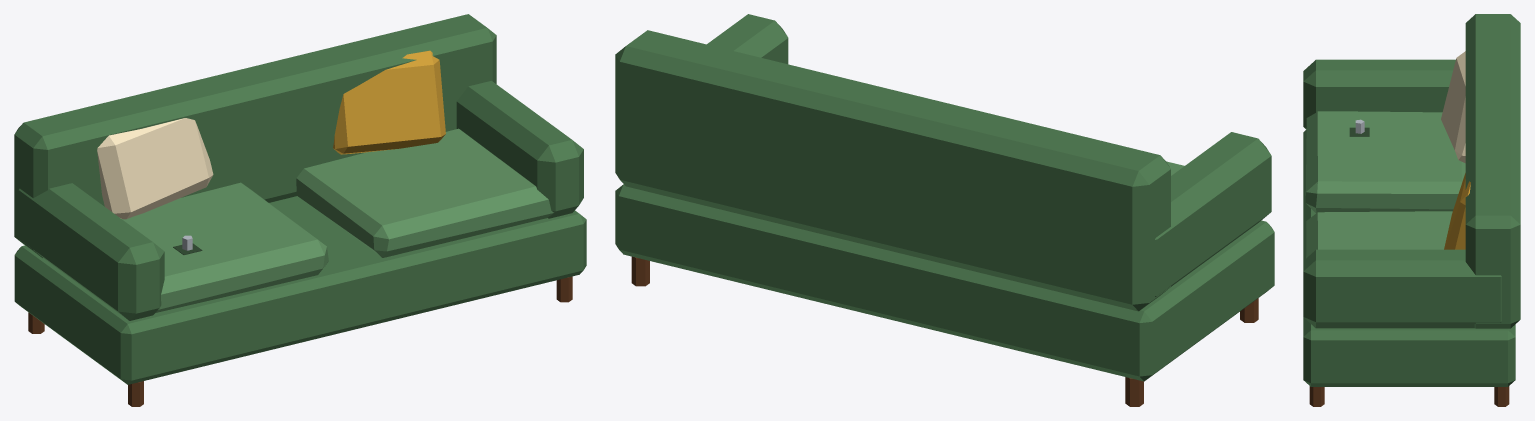
Rendered from sofa.fbx.
3 views of the same model, side by side, from view 1: azimuth 30°, elevation 25°; view 2: azimuth 150°, elevation 25°; view 3: azimuth 270°, elevation 25° (orthographic). The views are drawn at different scales.
Visible parts, largest first — view 1: sofa; view 2: sofa; view 3: sofa.
Boxes of the visible parts, box(x1,y1,x2,y2) form: sofa: box(14, 14, 586, 406); sofa: box(615, 14, 1274, 406); sofa: box(1303, 14, 1520, 406).
Size of the model in its own units: 8 by 3.4 by 3.48.
